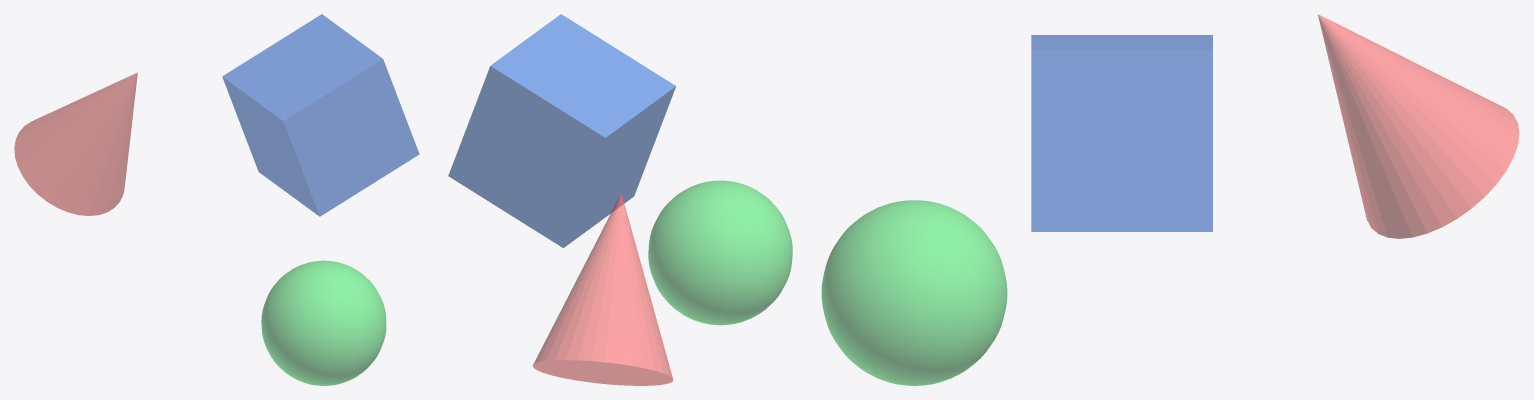
File: shapes.glb
3 views of the same model, side by side, from view 1: azimuth 30°, elevation 25°; view 2: azimuth 150°, elevation 25°; view 3: azimuth 270°, elevation 25° (orthographic). The views are drawn at different scales.
Bounding box in the file's own units: 2.48 × 2.42 × 3.84.
